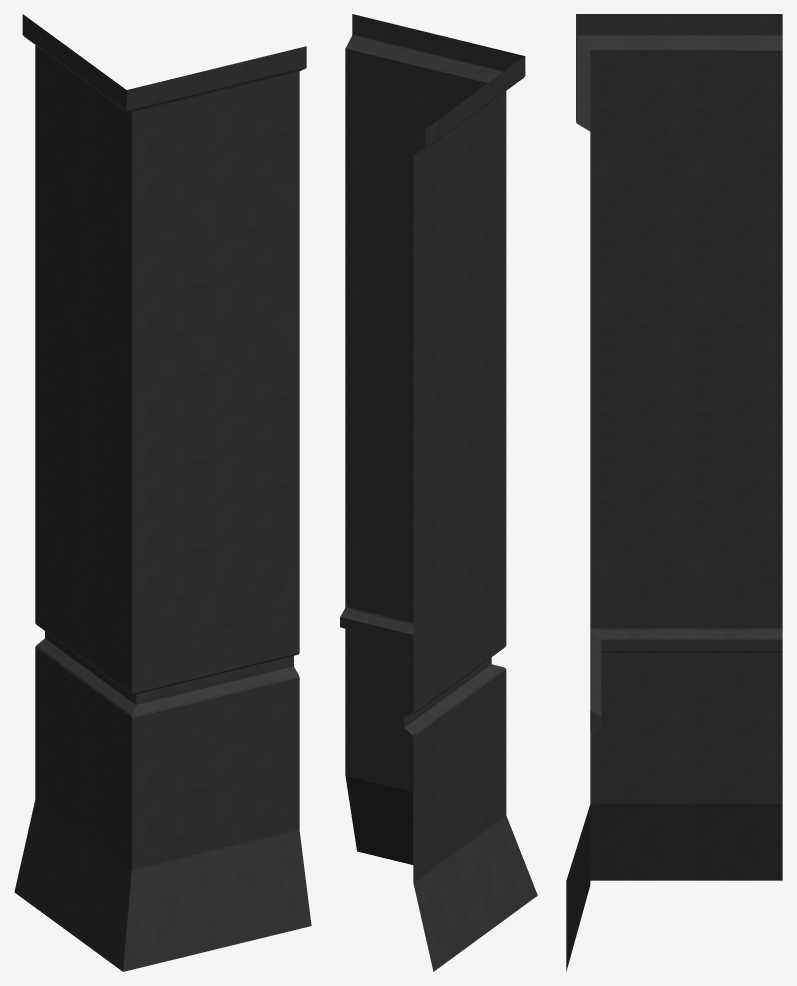
Rendered from M_Wall_Convex_Corner_4x20_v2.fbx.
The picture shows the model from 3 angles, left to right: view 1: azimuth 30°, elevation 25°; view 2: azimuth 150°, elevation 25°; view 3: azimuth 270°, elevation 25°; orthographic projection. The views are drawn at different scales.
Parts seen in each view (by area): view 1: Wall_Corner_Convex_4x20_v2; view 2: Wall_Corner_Convex_4x20_v2; view 3: Wall_Corner_Convex_4x20_v2.
Part boxes in pixels (x1,y1,x2,y2): Wall_Corner_Convex_4x20_v2: [14, 14, 311, 971]; Wall_Corner_Convex_4x20_v2: [340, 14, 537, 971]; Wall_Corner_Convex_4x20_v2: [566, 14, 782, 971].
Bounding box in the file's own units: 450 × 2000 × 450.
